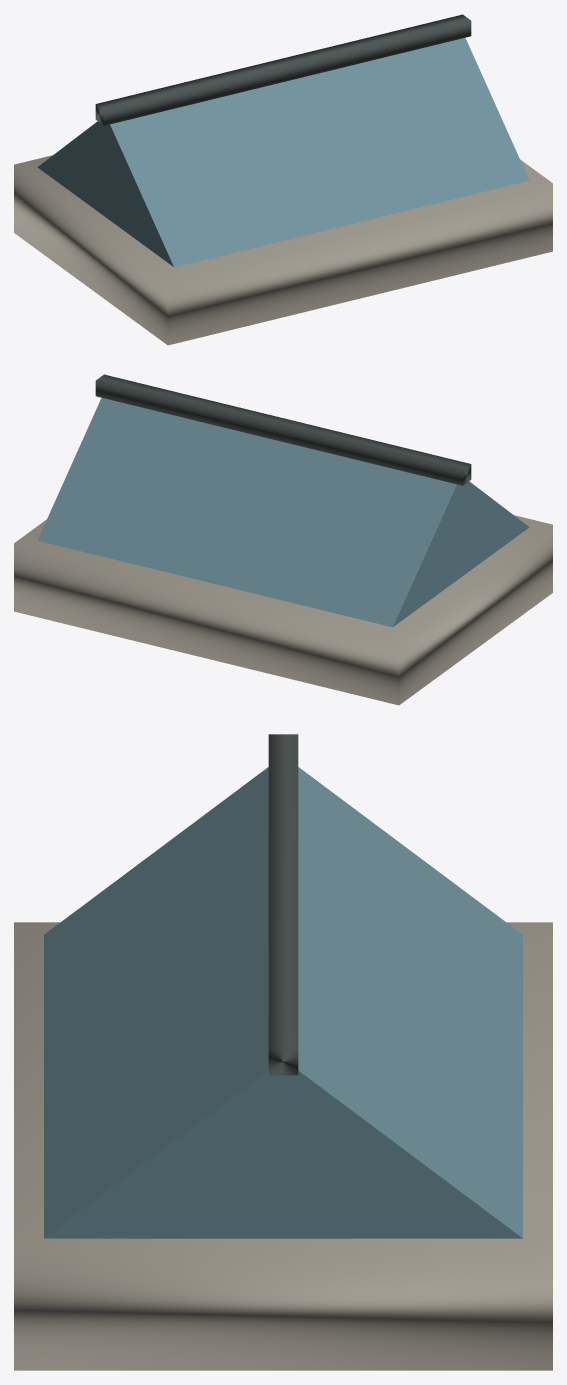
File: roof_skylight.glb
3 views of the same model, one above another, from view 1: azimuth 30°, elevation 25°; view 2: azimuth 150°, elevation 25°; view 3: azimuth 270°, elevation 25° (orthographic). The views are drawn at different scales.
Parts seen in each view (by area): view 1: roof_skylight; view 2: roof_skylight; view 3: roof_skylight.
Part boxes in pixels (left/top/right/bottom): roof_skylight: left=14, top=14, right=552, bottom=345; roof_skylight: left=14, top=374, right=552, bottom=705; roof_skylight: left=14, top=734, right=552, bottom=1370.
Size of the model in its own units: 1.3 by 0.58 by 0.9.
